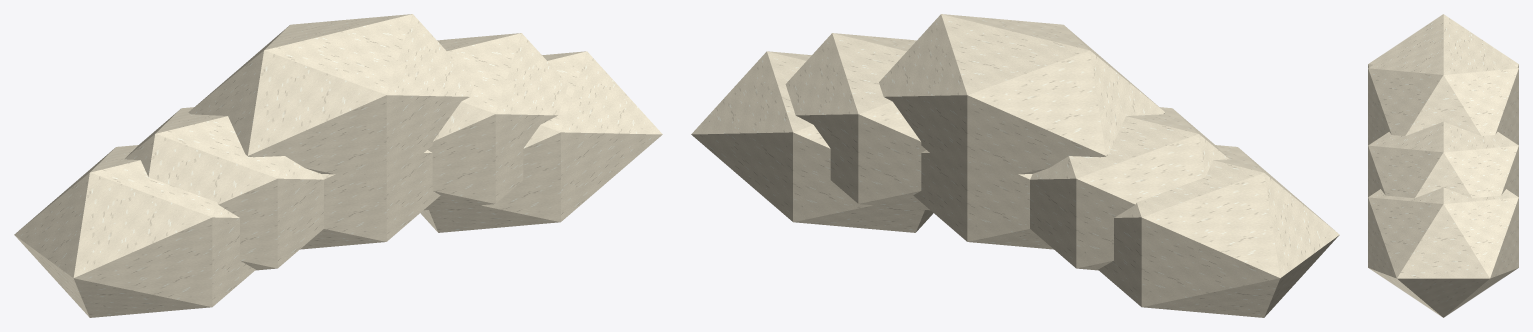
Rendered from cloud.glb.
The picture shows the model from 3 angles, left to right: view 1: azimuth 30°, elevation 25°; view 2: azimuth 150°, elevation 25°; view 3: azimuth 270°, elevation 25°; orthographic projection. The views are drawn at different scales.
Visible parts, largest first — view 1: 0_whitePaint; view 2: 0_whitePaint; view 3: 0_whitePaint.
Boxes of the visible parts, left/top/right/bottom form: 0_whitePaint: left=14, top=14, right=662, bottom=317; 0_whitePaint: left=691, top=14, right=1339, bottom=317; 0_whitePaint: left=1368, top=14, right=1518, bottom=317.
Bounding box in the file's own units: 5.41 × 1.98 × 1.53.
Materials: 1 (1 with a texture image).
